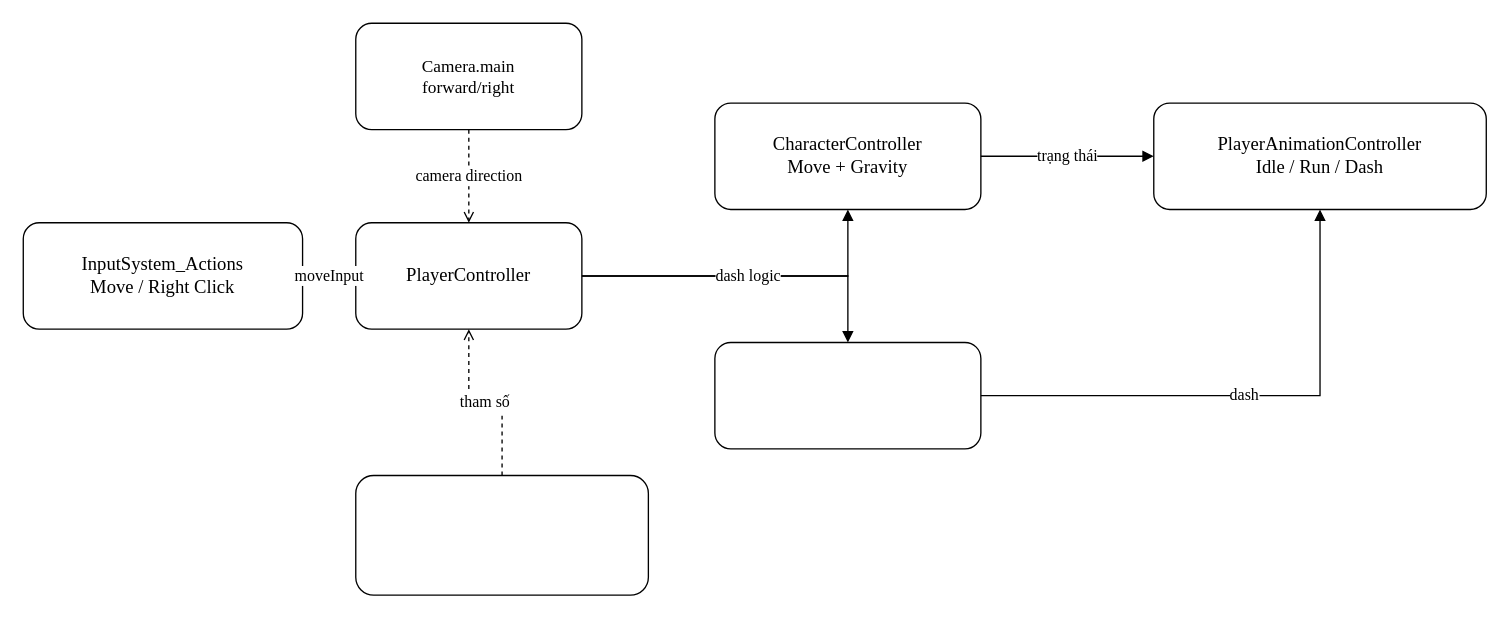
The diagram is 1510 pixels wide and 618 high, and some of its shapes have lost their labels. Here are the shapes that lost their labels. From the top down, the centre of each, then its label:
[847,395]: Dash State isDashing / cooldown
[501,534]: PlayerData moveSpeed=5 dashSpeed=15 dashCooldown=1
